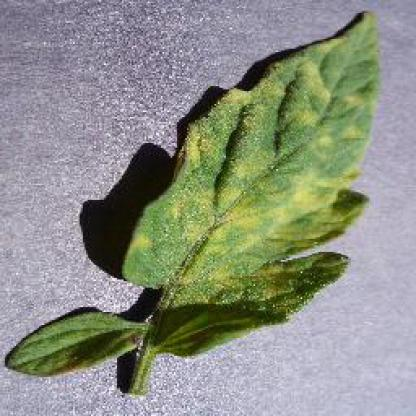bad leaf: (0, 11, 402, 403)
